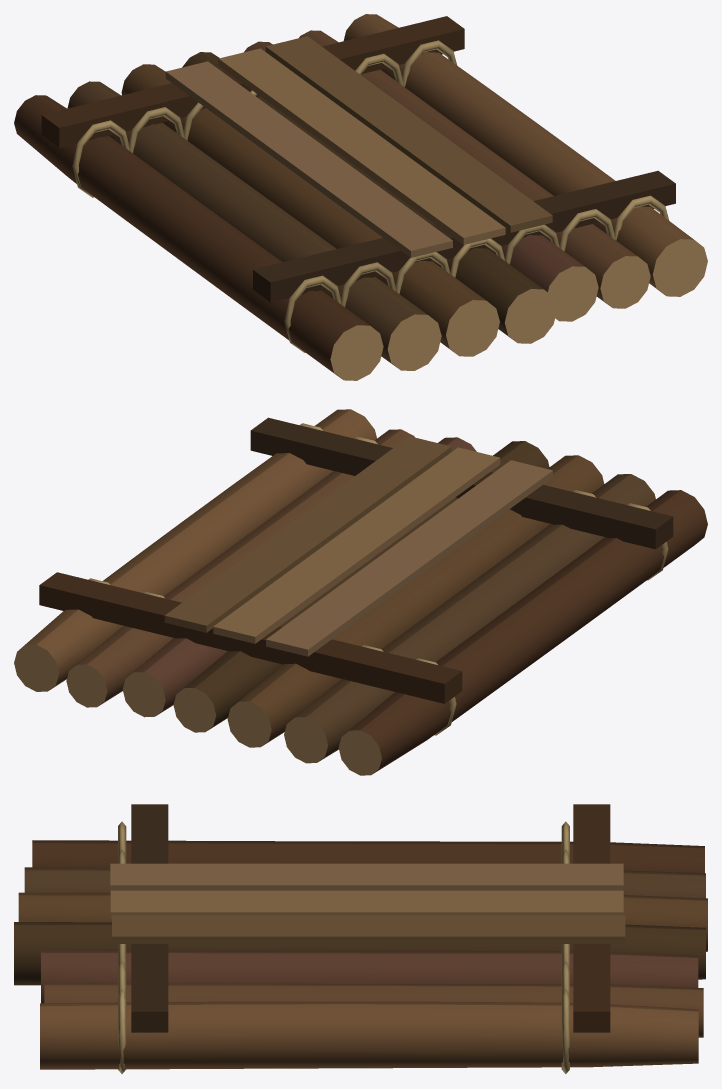
File: raft.hull.default.glb
The picture shows the model from 3 angles, top to bottom: view 1: azimuth 30°, elevation 25°; view 2: azimuth 150°, elevation 25°; view 3: azimuth 270°, elevation 25°; orthographic projection. The views are drawn at different scales.
Visible parts, largest first — view 1: raft.hull.default (×3); view 2: raft.hull.default (×3); view 3: raft.hull.default (×3).
Part boxes in pixels (<box>): raft.hull.default (×3): <box>14,14,707,380</box>; raft.hull.default (×3): <box>14,409,707,775</box>; raft.hull.default (×3): <box>14,804,707,1073</box>.
Size of the model in its own units: 2.12 by 0.4113 by 3.
